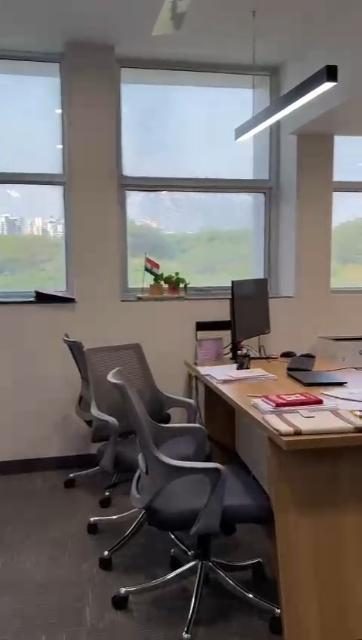floor: (4, 472, 78, 640)
object: (86, 422, 254, 624), (62, 345, 202, 485), (218, 263, 286, 361)
wall: (70, 52, 119, 334), (284, 133, 332, 343), (0, 314, 62, 462), (211, 2, 361, 58), (0, 0, 148, 52), (126, 307, 198, 343), (156, 39, 248, 60)
